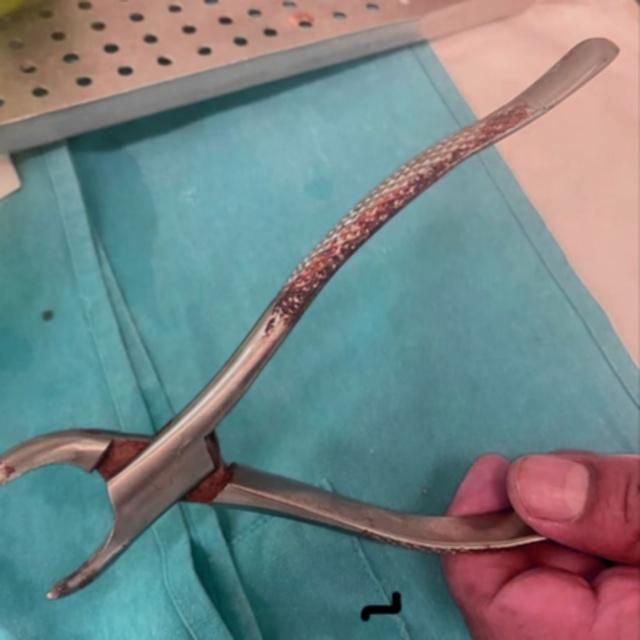forceps: (0, 38, 620, 603)
